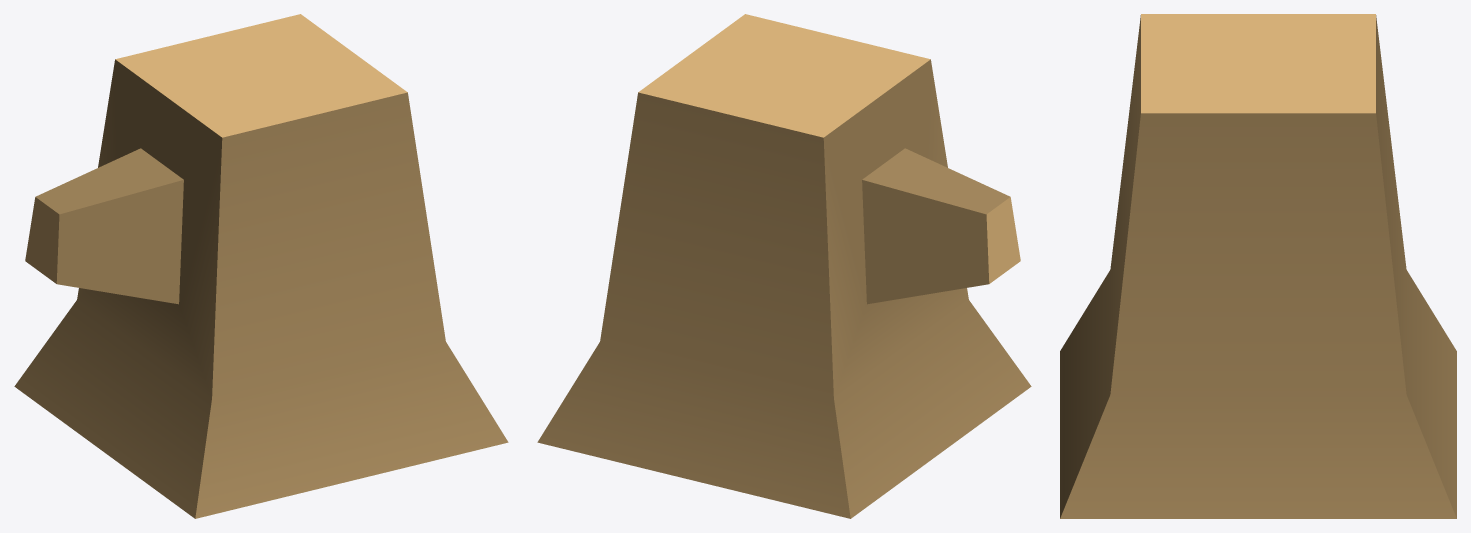
The model's file is Trunk_Alt_02.obj.
3 renders of one model, left to right at view 1: azimuth 30°, elevation 25°; view 2: azimuth 150°, elevation 25°; view 3: azimuth 270°, elevation 25°, orthographic. The views are drawn at different scales.
Visible parts, largest first — view 1: Mesh1_Trunk_Alt_Model.001; view 2: Mesh1_Trunk_Alt_Model.001; view 3: Mesh1_Trunk_Alt_Model.001.
Boxes of the visible parts, x1,y1,x2,y2 form: Mesh1_Trunk_Alt_Model.001: (14,14,508,518); Mesh1_Trunk_Alt_Model.001: (537,14,1031,518); Mesh1_Trunk_Alt_Model.001: (1060,14,1456,518).
Bounding box in the file's own units: 0.9675 × 0.83 × 0.8037.
